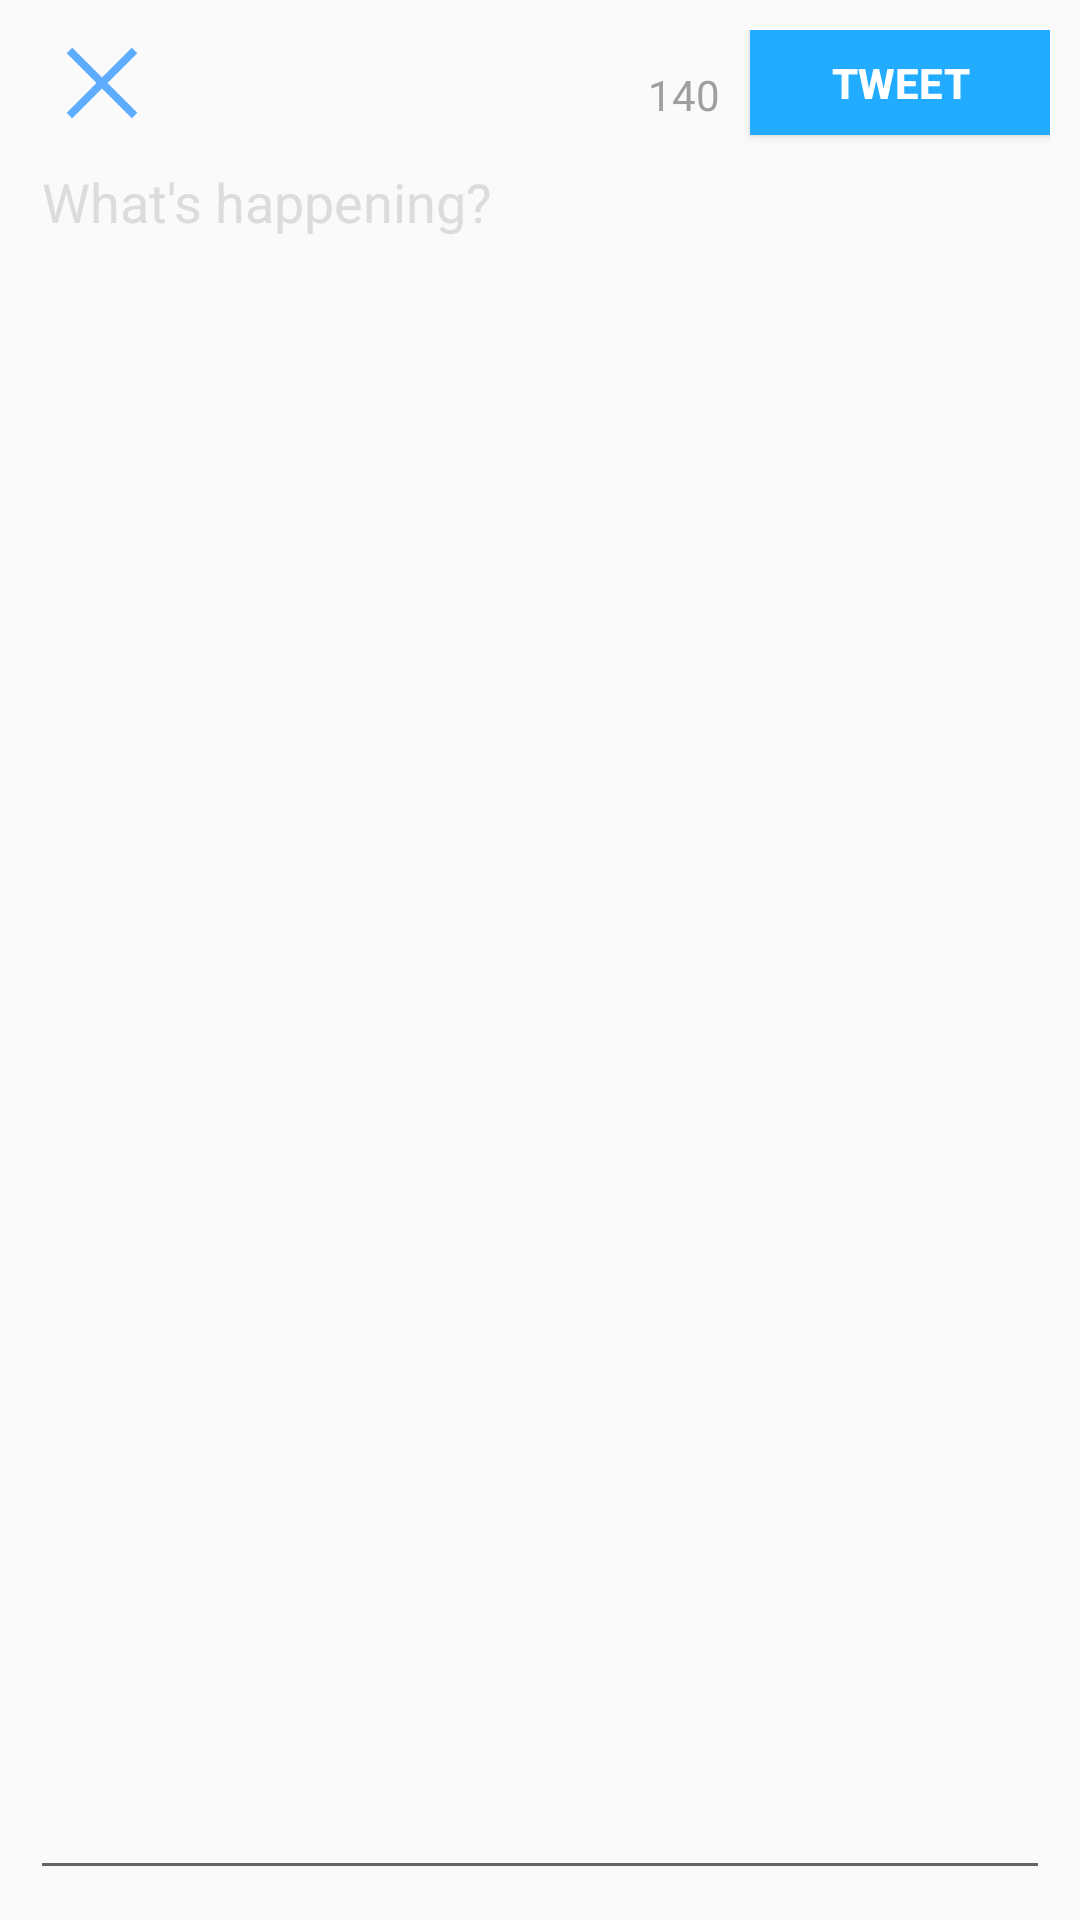

Where to tap for icons on this 1080x1920 app screen, as (x=x, y=y):
cancel: (x=102, y=83)
